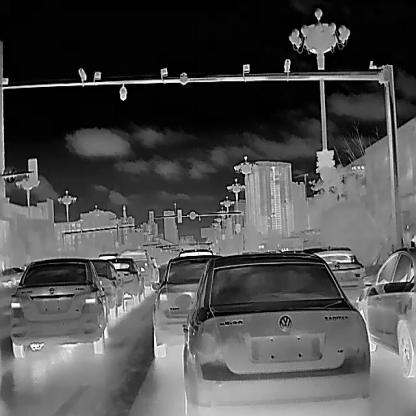car: (181, 252, 371, 415), (9, 256, 105, 357), (151, 255, 231, 357), (355, 246, 415, 377), (310, 250, 365, 307), (84, 256, 123, 321), (104, 257, 146, 308), (120, 248, 155, 292), (0, 265, 25, 286)
